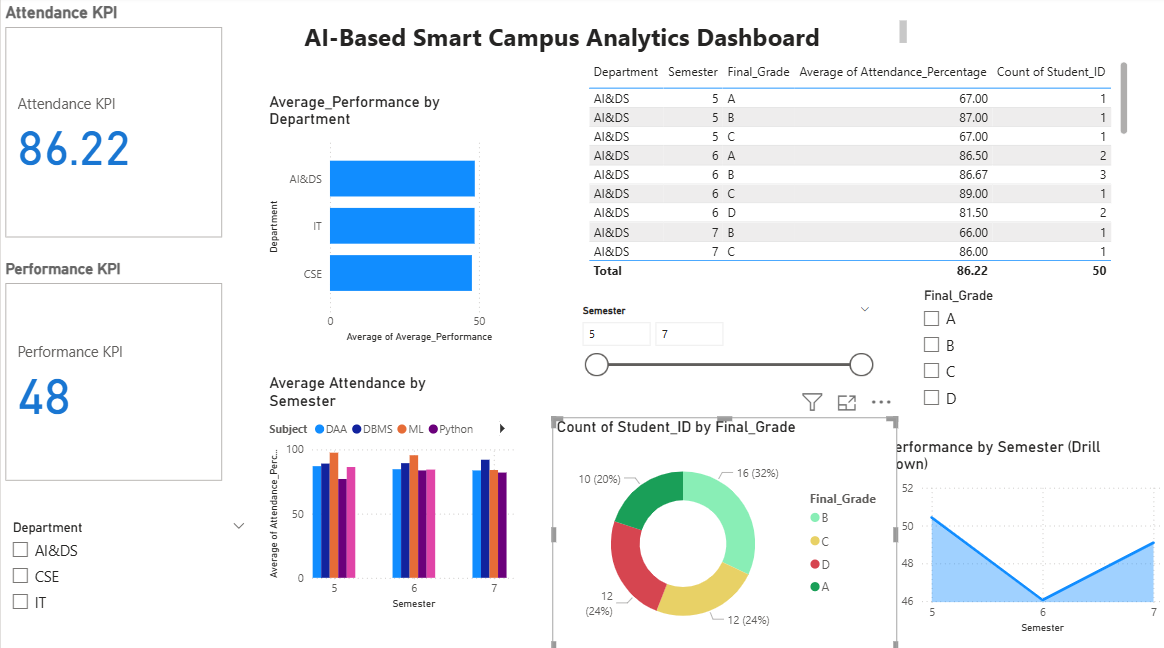

The dashboard page shown, as its layout file describes it:
{"tool":"powerbi","page":{"name":"Page 1","canvas":[1280,720],"ordinal":0},"visuals":[{"type":"cardVisual","title":"Attendance KPI","fields":{"Data":["Avg(5 student_performance.Attendance_Percentage)"]},"box":[0,7.1,248.6,264.3],"z":0},{"type":"cardVisual","title":"Performance KPI","fields":{"Data":["Avg(5 student_performance.Average_Performance)"]},"box":[0,290,248,248],"z":1000},{"type":"slicer","fields":{"Values":["5 student_performance.Department"]},"box":[0,570,280,150],"z":2000},{"type":"slicer","fields":{"Values":["5 student_performance.Semester"]},"box":[625.7,332.9,340,104.3],"z":3000},{"type":"clusteredBarChart","title":"Average_Performance by Department","fields":{"Category":["5 student_performance.Department"],"Y":["Avg(5 student_performance.Average_Performance)"]},"box":[290,105.7,280,280],"z":4000},{"type":"clusteredColumnChart","title":"Average Attendance by Semester","fields":{"Category":["5 student_performance.Semester"],"Y":["Avg(5 student_performance.Attendance_Percentage)"],"Series":["5 student_performance.Subject"]},"box":[290,414.3,280,264.3],"z":5000},{"type":"tableEx","fields":{"Values":["5 student_performance.Department","5 student_performance.Semester","5 student_performance.Final_Grade","Avg(5 student_performance.Attendance_Percentage)","CountNonNull(5 student_performance.Student_ID)"]},"box":[640,67.1,602.9,248.6],"z":6000},{"type":"donutChart","fields":{"Category":["5 student_performance.Final_Grade"],"Y":["CountNonNull(5 student_performance.Student_ID)"]},"box":[605.7,462.9,378.6,257.1],"z":7000},{"type":"slicer","fields":{"Values":["5 student_performance.Final_Grade"]},"box":[1000,315.7,280,147.1],"z":8000},{"type":"areaChart","title":"Performance by Semester (Drill Down)","fields":{"Category":["5 student_performance.Department","5 student_performance.Semester","5 student_performance.Student_ID"],"Y":["Avg(5 student_performance.Average_Performance)"]},"box":[965.7,484.3,314.3,220],"z":9000},{"type":"textbox","box":[328.6,21.4,671.4,45.7],"z":11000}]}

Visuals, with their boxes in screenshot pixels (x1, y1, x2, y2), scaled from the page's 1280x720 canvas onto the 1164x648 screenshot:
"Attendance KPI" cardVisual: l=0, t=6, r=226, b=244
"Performance KPI" cardVisual: l=0, t=261, r=226, b=484
slicer - 5 student_performance.Department: l=0, t=513, r=255, b=647
slicer - 5 student_performance.Semester: l=569, t=300, r=878, b=393
"Average_Performance by Department" clusteredBarChart: l=264, t=95, r=518, b=347
"Average Attendance by Semester" clusteredColumnChart: l=264, t=373, r=518, b=611
tableEx - 5 student_performance.Department x 5 student_performance.Semester: l=582, t=60, r=1130, b=284
donutChart - 5 student_performance.Final_Grade x CountNonNull(5 student_performance.Student_ID): l=551, t=417, r=895, b=647
slicer - 5 student_performance.Final_Grade: l=909, t=284, r=1163, b=417
"Performance by Semester (Drill Down)" areaChart: l=878, t=436, r=1163, b=634
textbox: l=299, t=19, r=909, b=60
